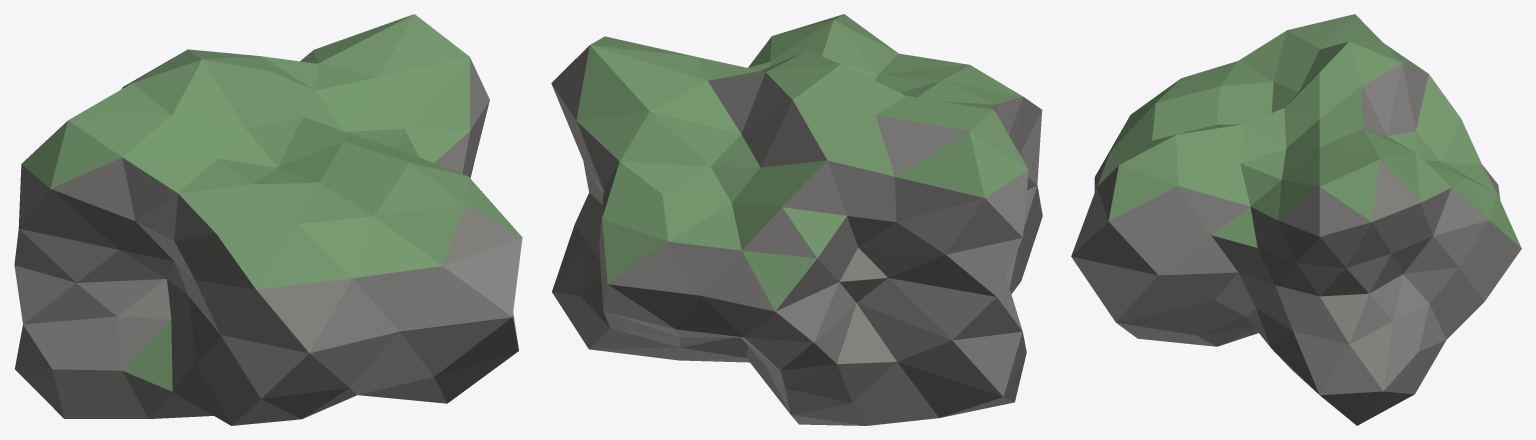
Rendered from hazard_rock.glb.
3 views of the same model, side by side, from view 1: azimuth 30°, elevation 25°; view 2: azimuth 150°, elevation 25°; view 3: azimuth 270°, elevation 25° (orthographic). The views are drawn at different scales.
Parts seen in each view (by area): view 1: hazard_rock; view 2: hazard_rock; view 3: hazard_rock.
Boxes of the visible parts, box(x1,y1,x2,y2) form: hazard_rock: box(14, 14, 522, 425); hazard_rock: box(551, 14, 1042, 425); hazard_rock: box(1071, 14, 1521, 425).
Bounding box in the file's own units: 3.02 × 2.25 × 3.
